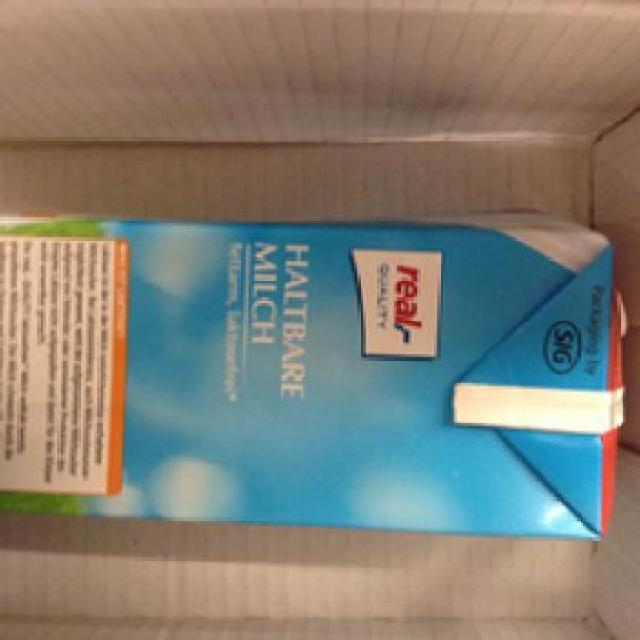Milk: (0, 208, 637, 546)
